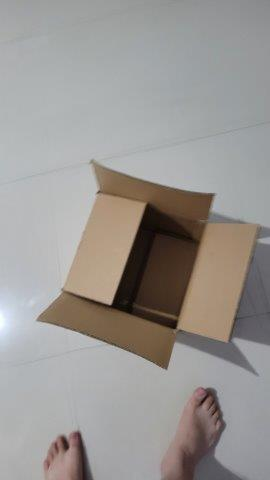kardus: (36, 160, 260, 371)
